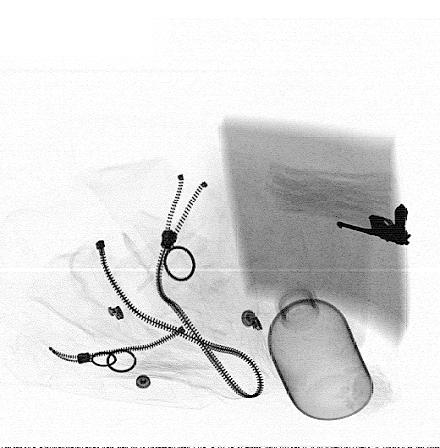Gun: (334, 203, 412, 247)
